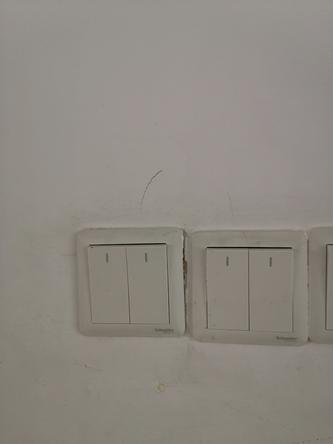switch: (120, 239, 174, 328), (246, 245, 296, 338), (205, 242, 254, 334), (83, 240, 131, 328)
